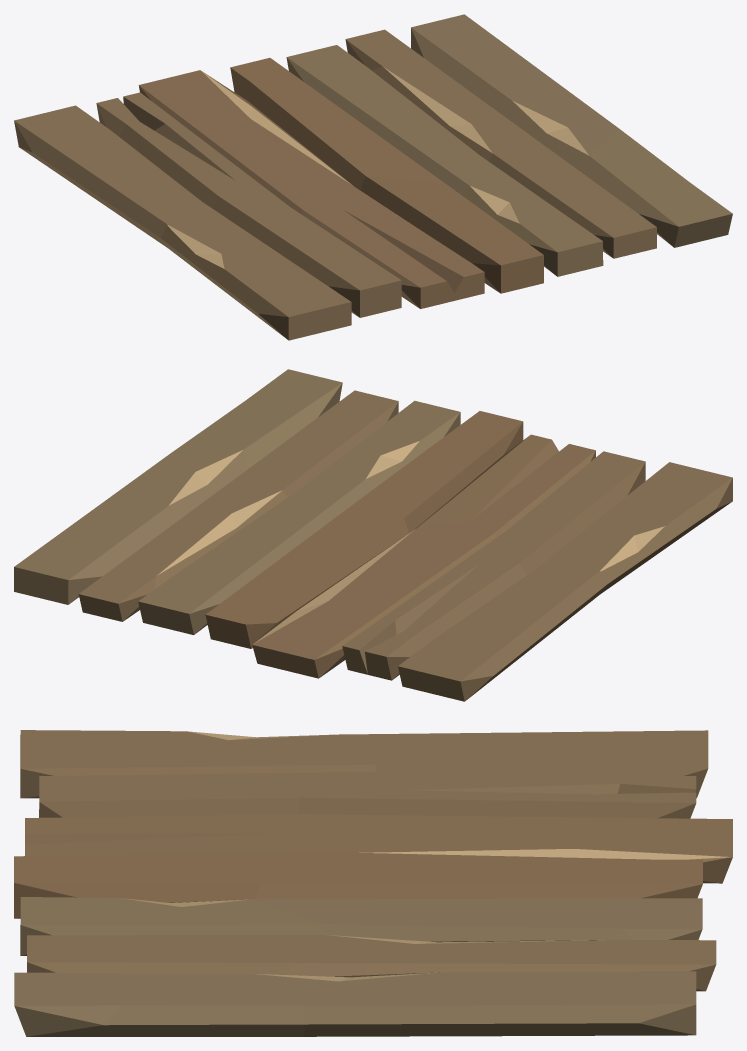
The model's file is rpgpp_ag_wall_platform_03a.fbx.
3 views of the same model, one above another, from view 1: azimuth 30°, elevation 25°; view 2: azimuth 150°, elevation 25°; view 3: azimuth 270°, elevation 25° (orthographic). The views are drawn at different scales.
Parts seen in each view (by area): view 1: rpgpp_ag_wall_platform_03a; view 2: rpgpp_ag_wall_platform_03a; view 3: rpgpp_ag_wall_platform_03a.
Part boxes in pixels (<box>): rpgpp_ag_wall_platform_03a: <box>14,14,732,340</box>; rpgpp_ag_wall_platform_03a: <box>14,369,732,701</box>; rpgpp_ag_wall_platform_03a: <box>14,730,732,1036</box>.
Size of the model in its own units: 2.56 by 0.1594 by 2.73.
